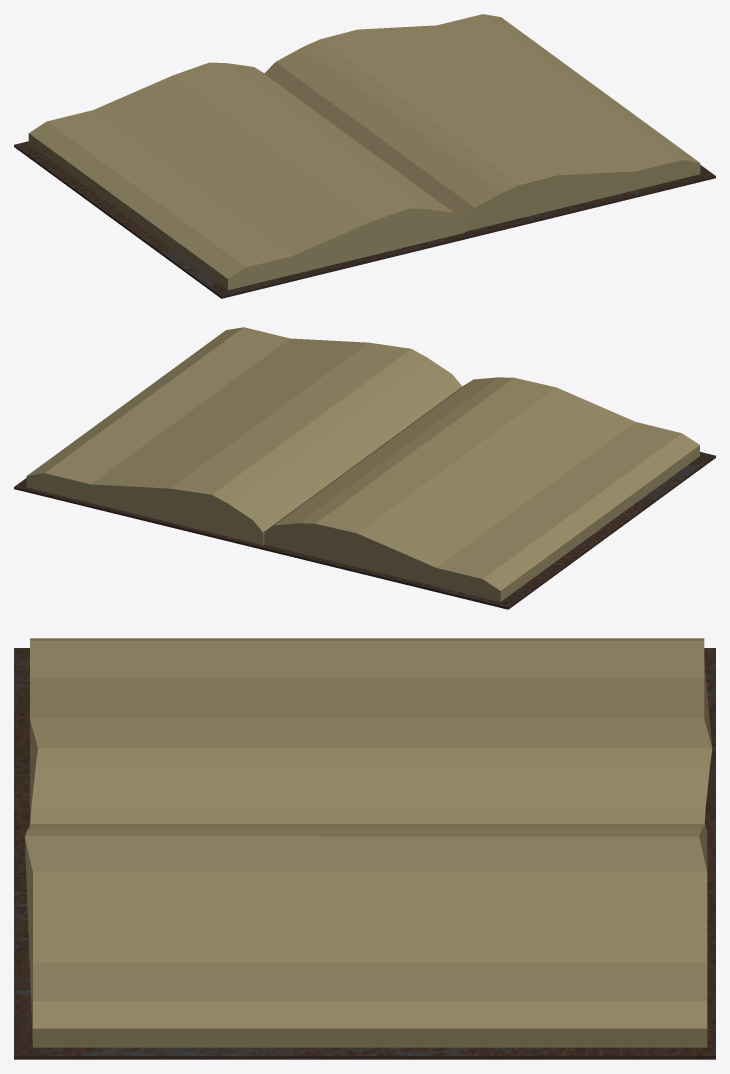
The model's file is diary.fbx.
The picture shows the model from 3 angles, top to bottom: view 1: azimuth 30°, elevation 25°; view 2: azimuth 150°, elevation 25°; view 3: azimuth 270°, elevation 25°; orthographic projection. The views are drawn at different scales.
Parts seen in each view (by area): view 1: diary; view 2: diary; view 3: diary.
Part boxes in pixels (x1,y1,x2,y2): diary: [14, 14, 715, 298]; diary: [14, 327, 715, 609]; diary: [14, 638, 715, 1059].
Bounding box in the file's own units: 51.61 × 3.77 × 37.53.
